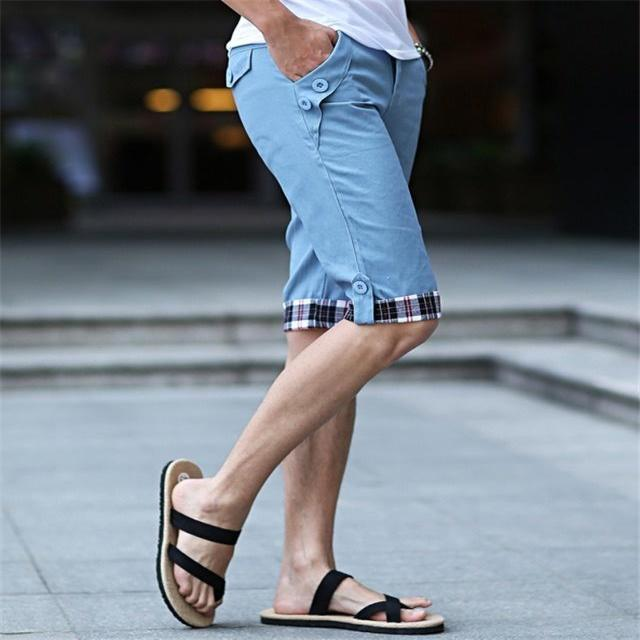shorts: (203, 22, 504, 361)
